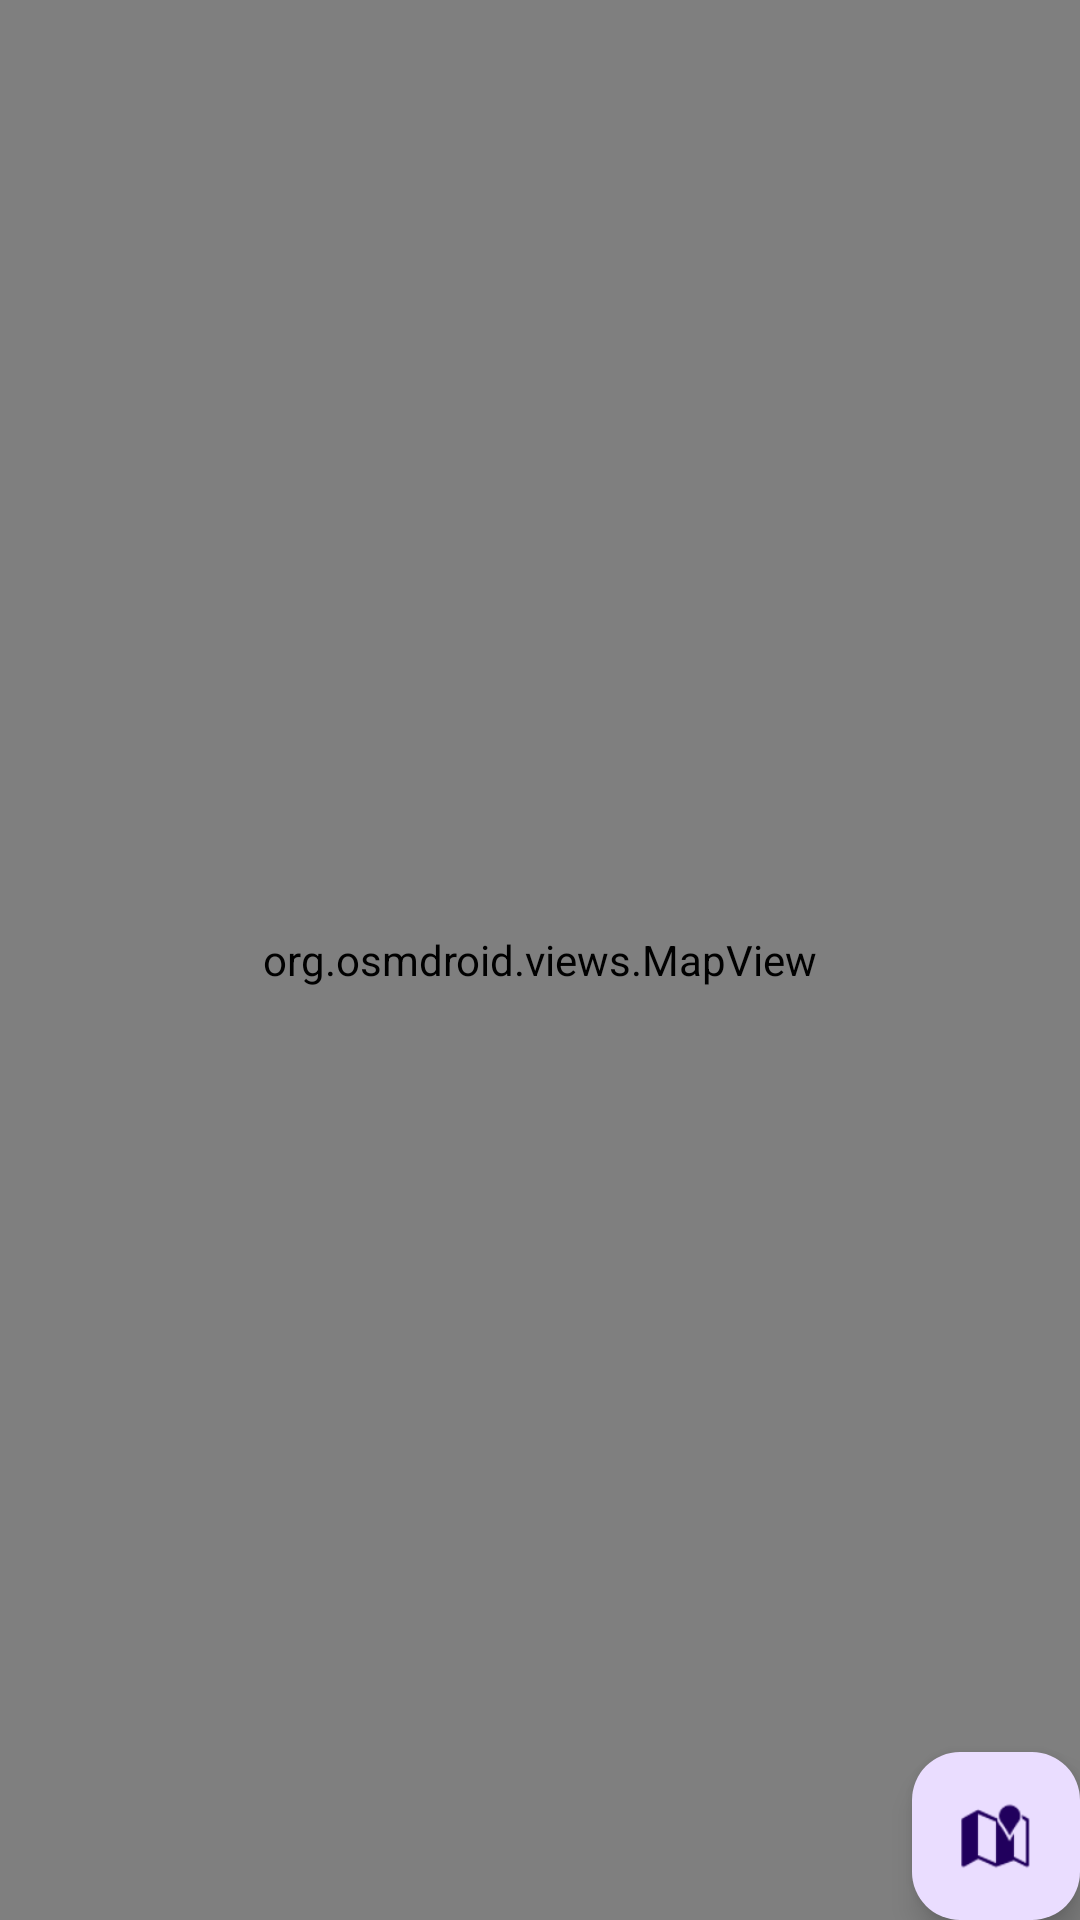

Icon click points for this 1080x1920 phone screenshot, format [x,y]:
map: [996,1836]
